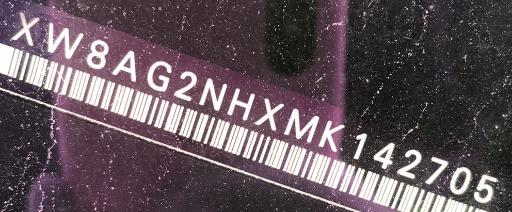letter: (46, 19, 84, 58), (282, 106, 320, 144), (196, 75, 228, 111), (10, 11, 42, 47), (226, 86, 256, 122), (253, 96, 283, 130), (317, 117, 345, 152), (110, 49, 136, 82), (146, 60, 172, 93), (422, 154, 448, 185), (173, 69, 197, 102), (472, 172, 498, 202), (396, 148, 422, 177), (86, 38, 110, 69), (448, 163, 472, 194), (372, 138, 396, 167), (352, 129, 368, 160)
